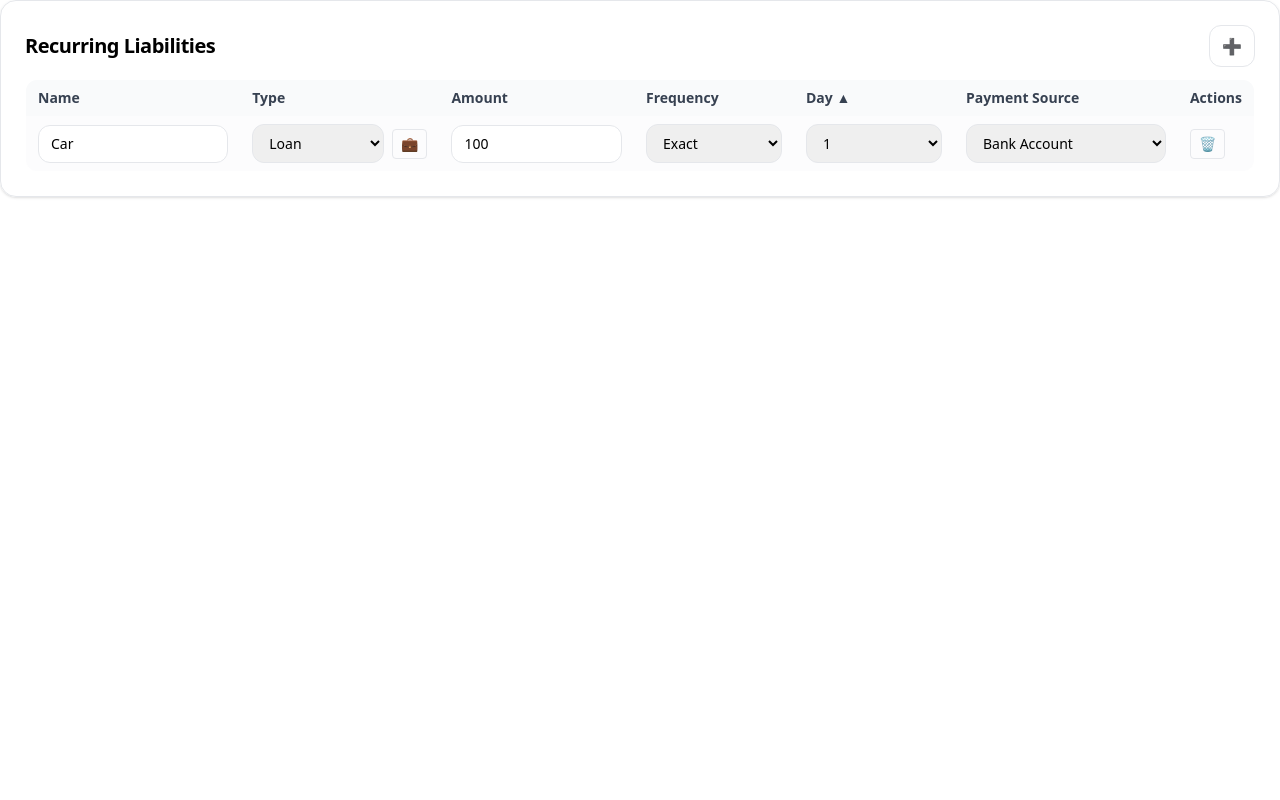
Test: grids render › Liabilities grid shows rows and loan details card
Click the button titled "Manage Loan" at (410, 144), box left=392, top=128, right=427, bottom=158
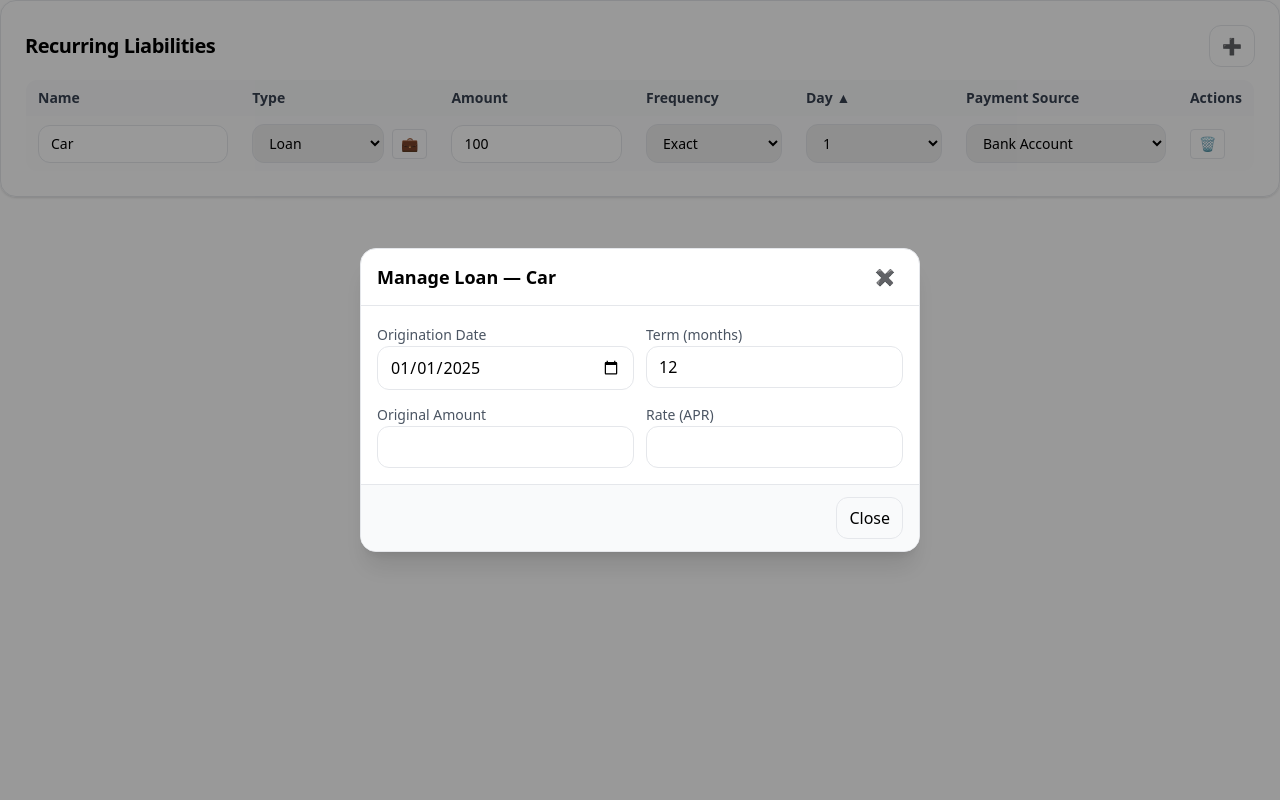
Now the heading "Manage Loan — Car" is shown, box left=377, top=263, right=556, bottom=291
